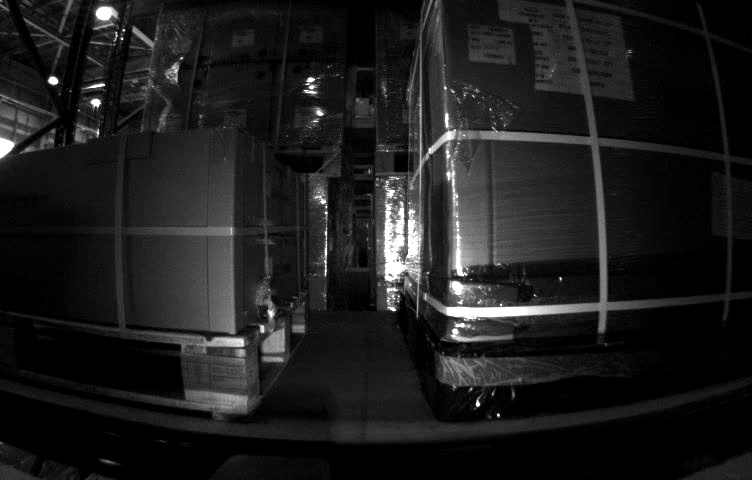True Barcode: (466, 23, 518, 68)
